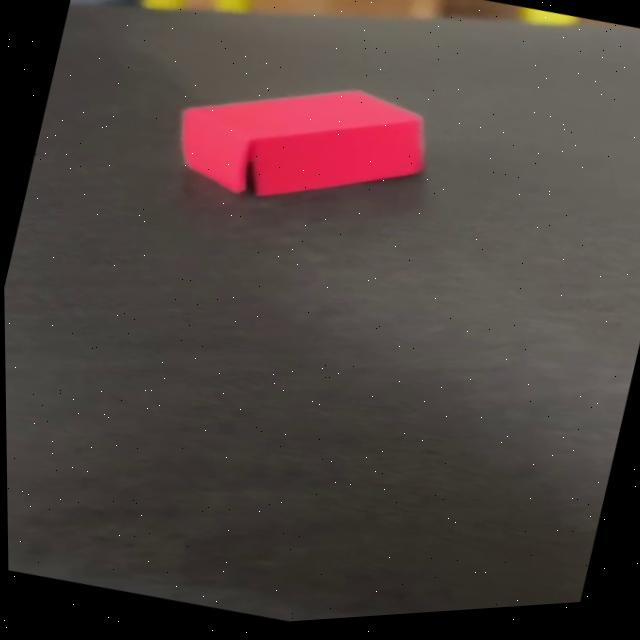red block: (161, 40, 439, 240)
